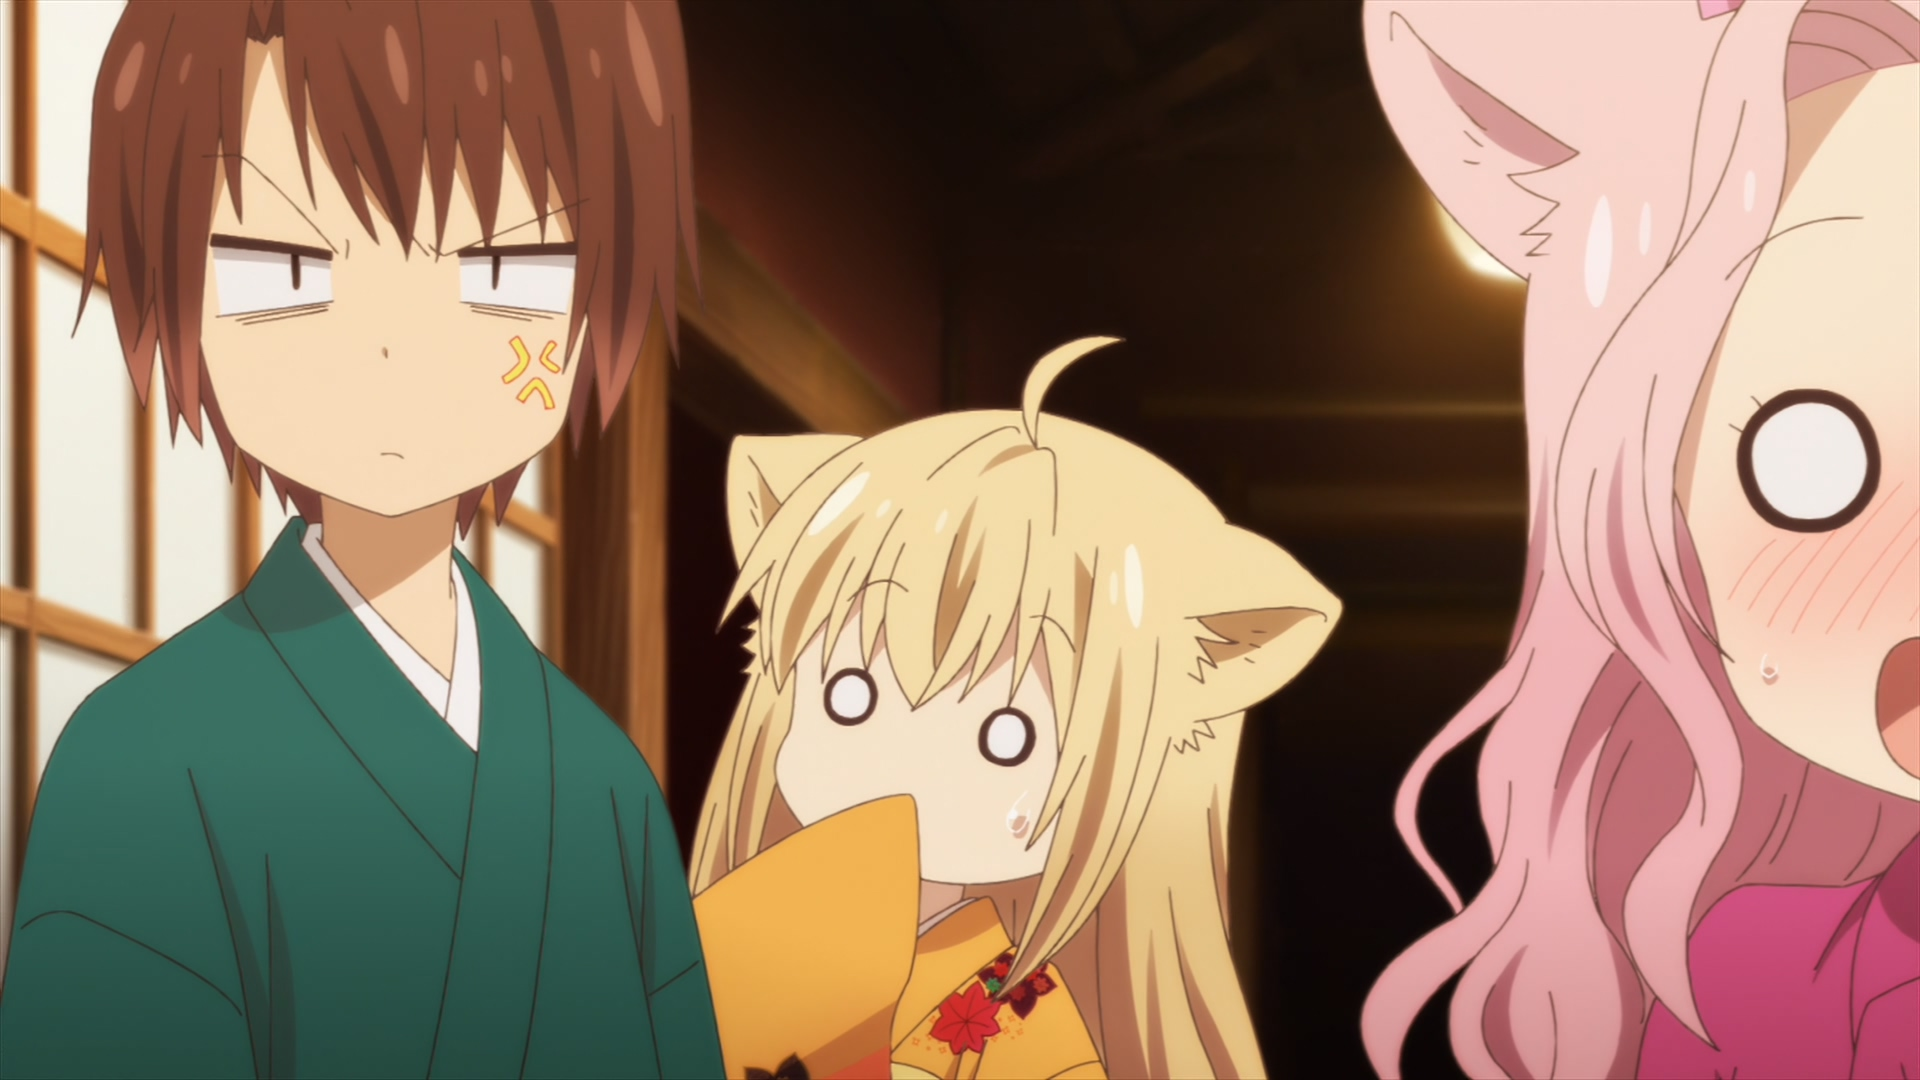枣: (1, 1, 723, 1080)
柚: (684, 338, 1342, 1080)
莲: (1361, 1, 1920, 1080)
